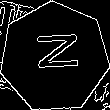N_W: (28, 36, 80, 79)
